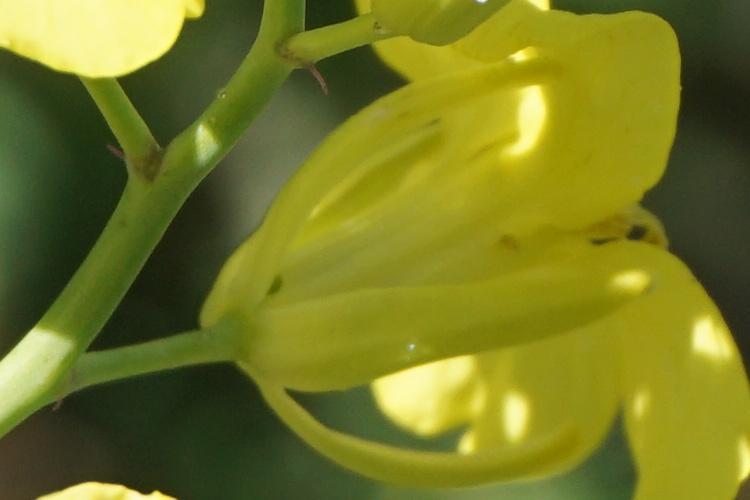yellow: (242, 62, 729, 478)
